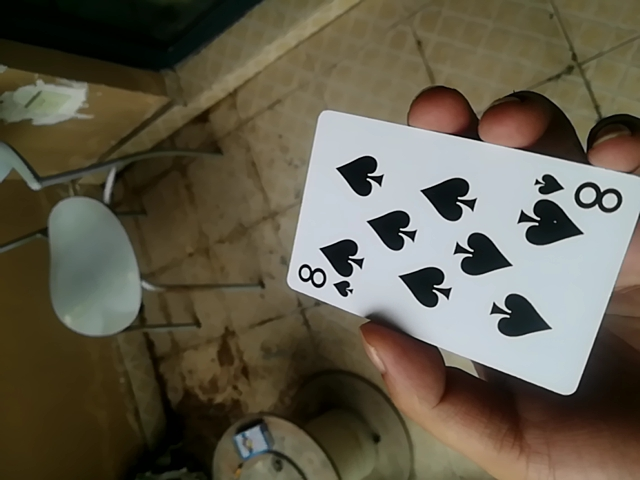ht 8: (285, 105, 640, 399)
